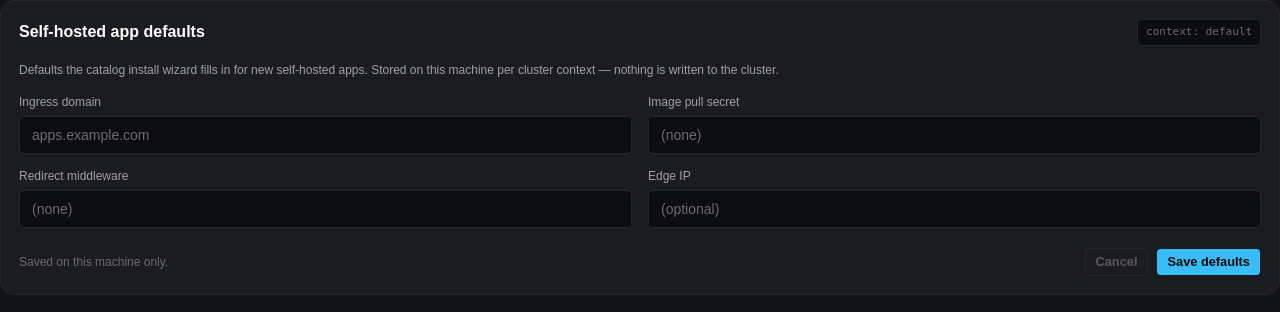
Scenario: SelfHostSection — Cancel › after Save there are no unsaved edits, so Cancel is disabled
Type "apps.saved.com" into the field with placeholder "apps.example.com" at (326, 135), box [19,116,632,154]
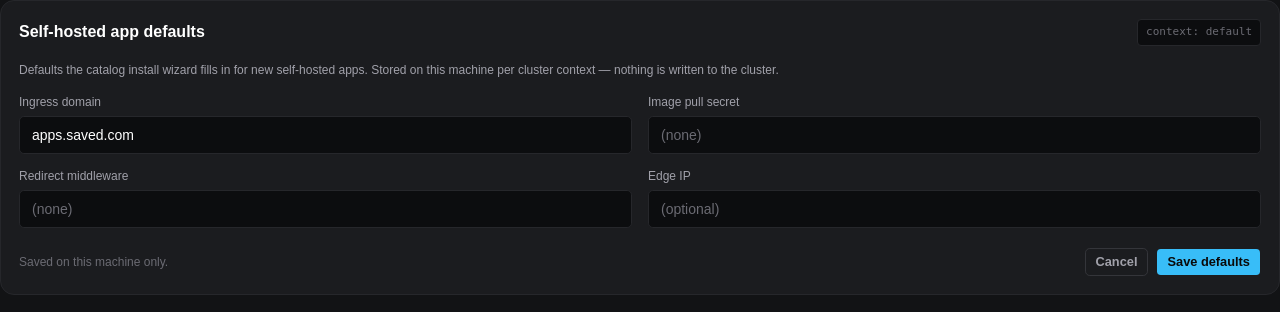
Click the button "Save defaults" at (1209, 262), box [1156,248,1261,276]
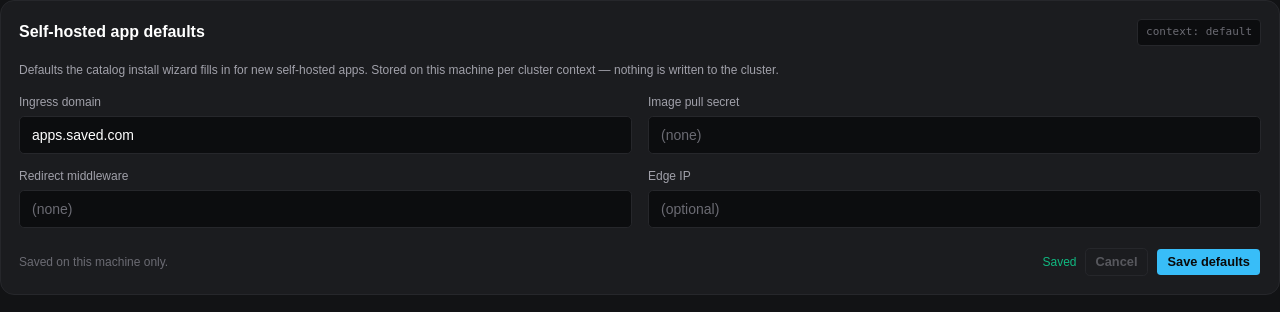
Now the button "Cancel" is disabled, box [1084,248,1148,276]
